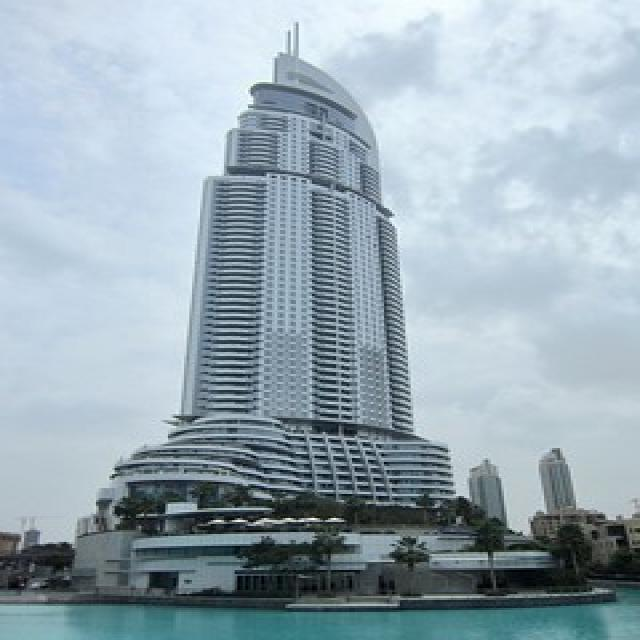Normal_building: (101, 16, 502, 598)
